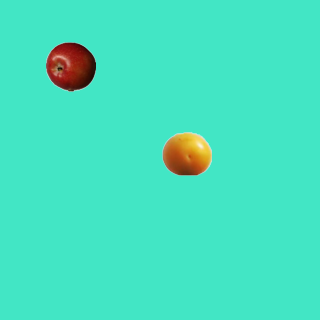Apple Braeburn: (45, 41, 95, 91)
Cherry Wax Yellow: (161, 128, 211, 178)
